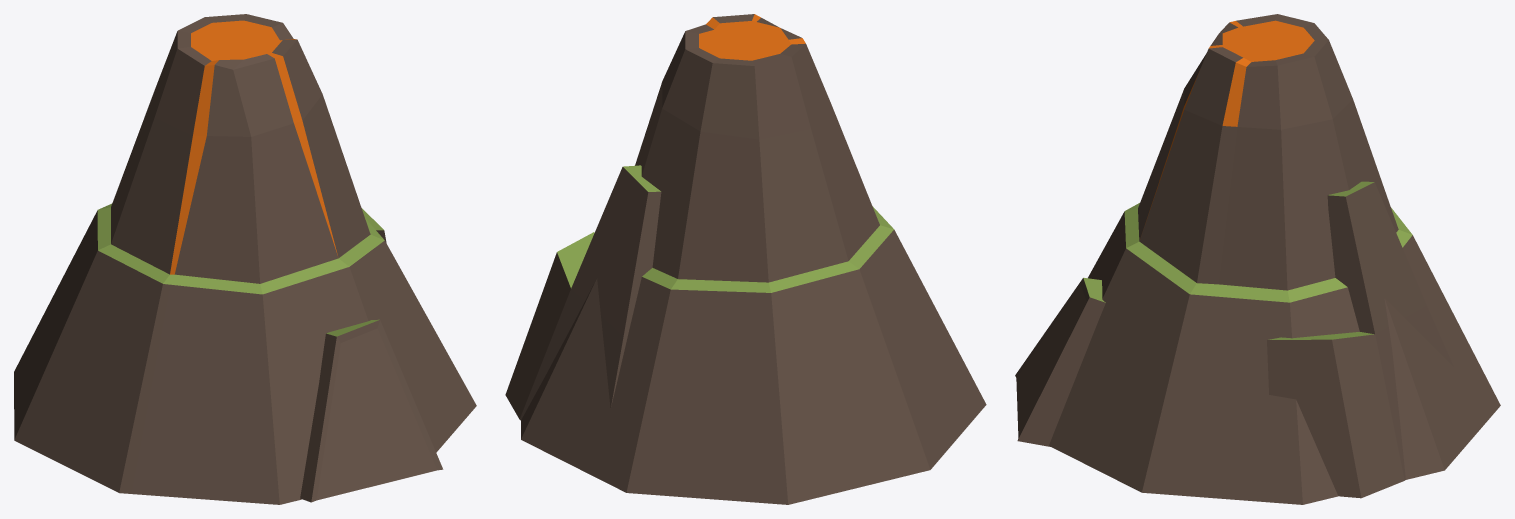
The model's file is vulcano_01.fbx.
The picture shows the model from 3 angles, left to right: view 1: azimuth 30°, elevation 25°; view 2: azimuth 150°, elevation 25°; view 3: azimuth 270°, elevation 25°; orthographic projection.
Parts seen in each view (by area): view 1: vulcano_01; view 2: vulcano_01; view 3: vulcano_01.
Part boxes in pixels (x1,y1,x2,y2): vulcano_01: [14, 14, 476, 504]; vulcano_01: [505, 14, 986, 504]; vulcano_01: [1015, 14, 1500, 504].
Size of the model in its own units: 3904 by 3415 by 4023.
